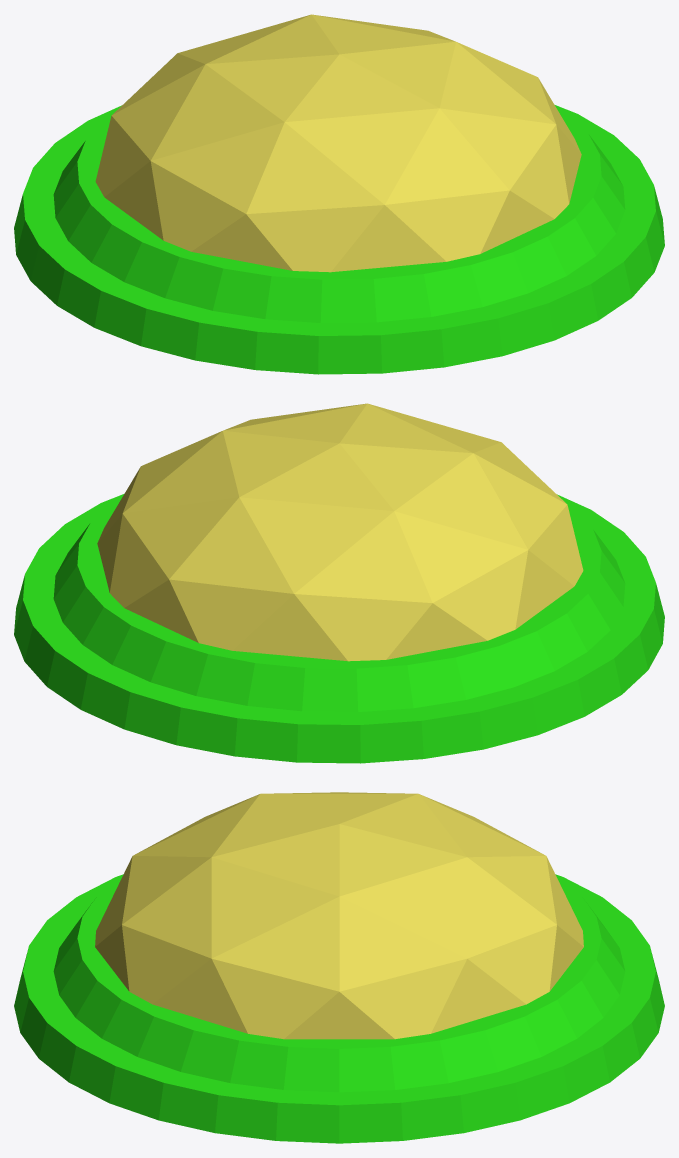
Rendered from normal ceiling light.fbx.
The picture shows the model from 3 angles, top to bottom: view 1: azimuth 30°, elevation 25°; view 2: azimuth 150°, elevation 25°; view 3: azimuth 270°, elevation 25°; orthographic projection.
Parts seen in each view (by area): view 1: Icosphere, Cylinder; view 2: Icosphere, Cylinder; view 3: Icosphere, Cylinder.
Boxes of the visible parts, <box> form: Icosphere: <box>95,14,581,272</box>; Cylinder: <box>14,105,664,374</box>; Icosphere: <box>97,403,583,661</box>; Cylinder: <box>14,494,664,763</box>; Icosphere: <box>95,792,583,1039</box>; Cylinder: <box>14,874,664,1143</box>.
Bounding box in the file's own units: 192 × 59.24 × 192.
